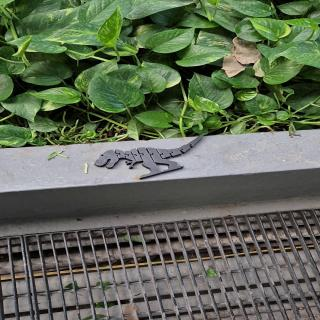dino: (93, 133, 206, 180)
